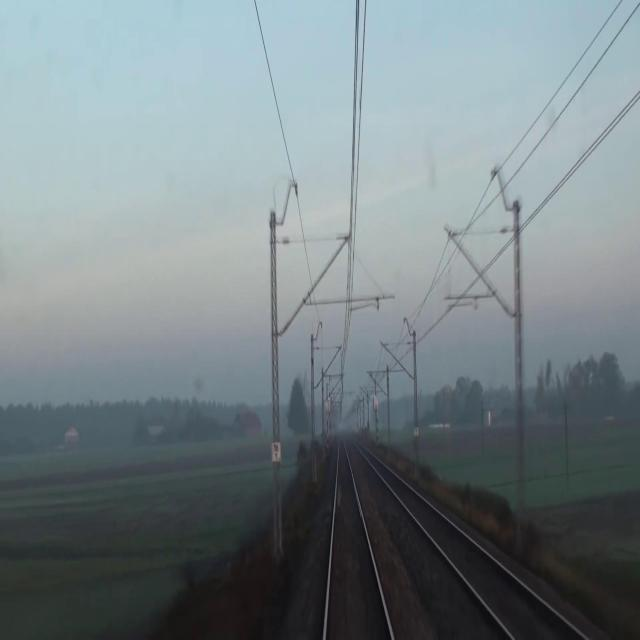rail-track: (374, 462, 579, 639), (328, 446, 389, 639)
